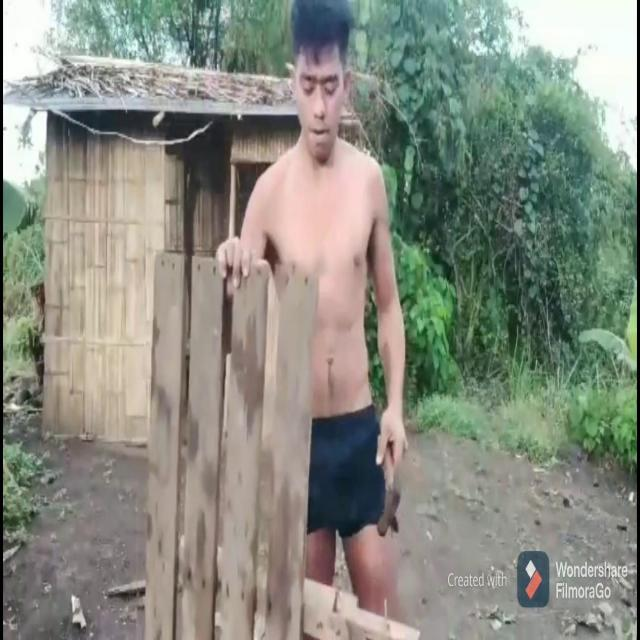hammer: (377, 436, 401, 537)
